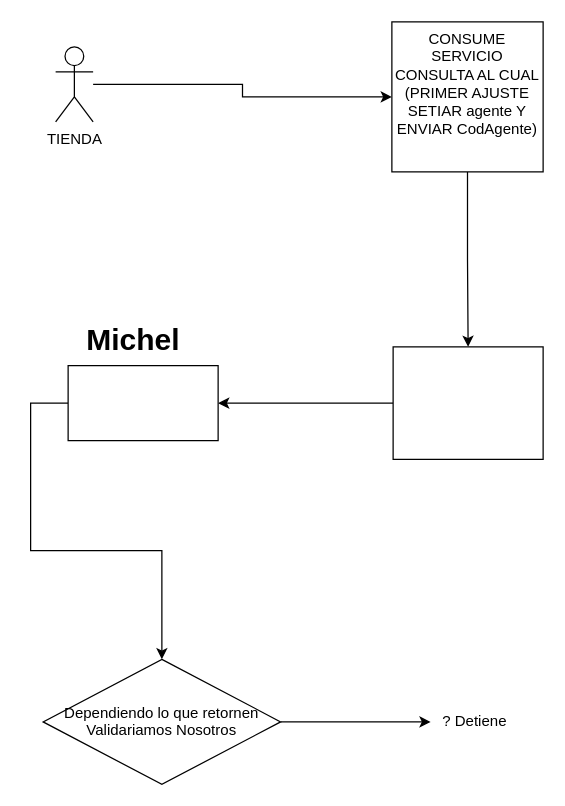
Some shapes in this 565 by 806 pixel diagram are drawn without their labels. Here are the shapes that lost their labels. From the top down, the centre of each, then its label:
the point at 142,402: Ajustar para devolver en dado caso mensaje y dias. sin todos los otros datos
the point at 467,402: Servicio va a validar ese agente y devuelve toda la informacion
